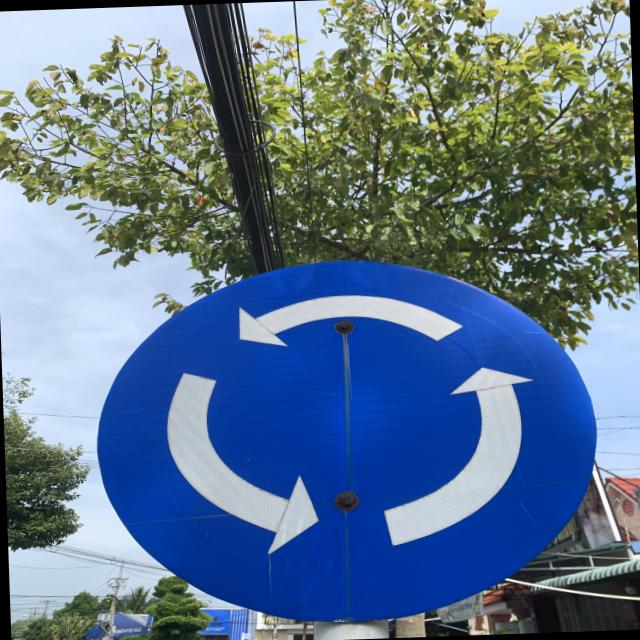Xe_Bus: (90, 249, 605, 632)
